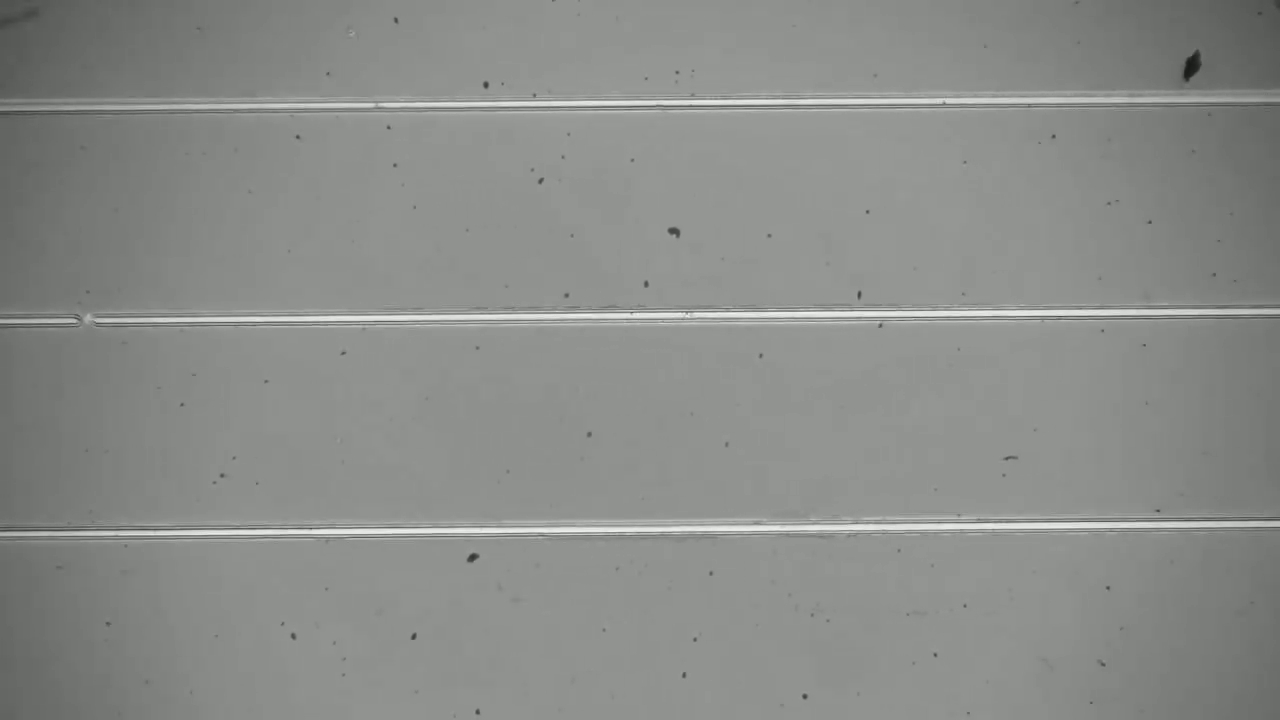open: (65, 295, 112, 340)
